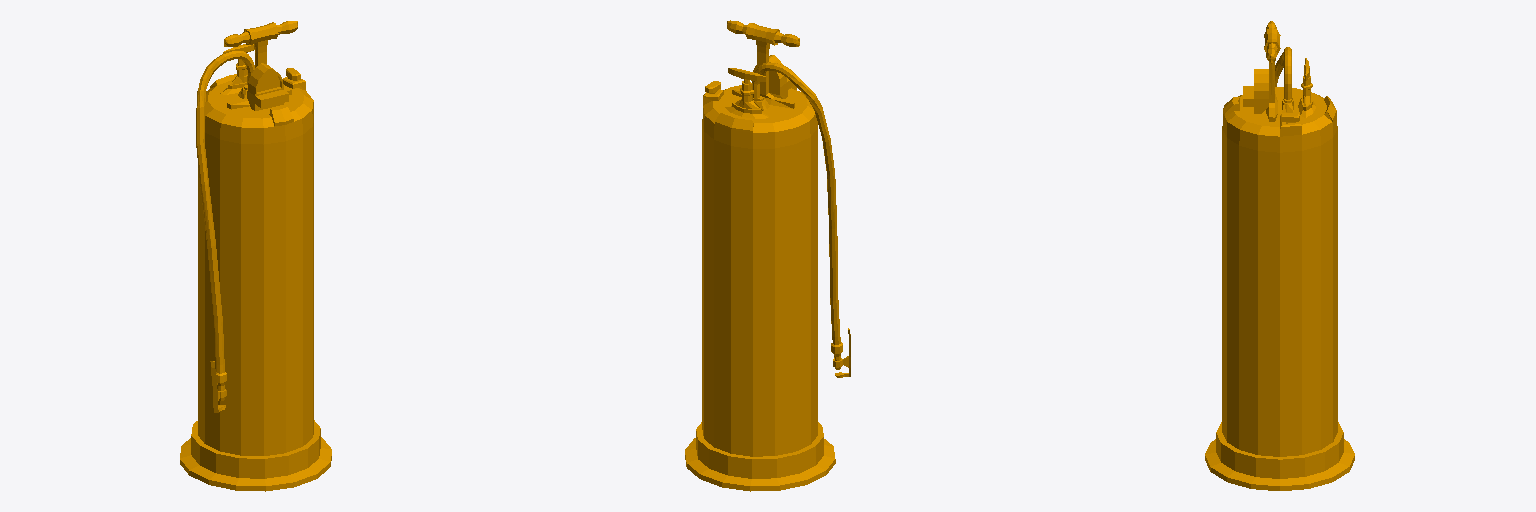
URDF robot description (mesh_object):
<robot name="mesh_object">
  <link name="base">
    <visual>
      <geometry>
        <mesh filename="fire_extinguisher_0_fire_extinguisher_0.obj" scale="1 1 1" />
      </geometry>
    </visual>
    <collision>
      <geometry>
        <mesh filename="fire_extinguisher_0_fire_extinguisher_0.obj" scale="1 1 1" />
      </geometry>
    </collision>
    <inertial>
      <origin xyz="0.004264 0.002513 0.091729" rpy="0 0 0" />
      <mass value="0.5" />
      <inertia ixx="0.01" iyy="0.01" izz="0.01" ixy="0" ixz="0" iyz="0" />
    </inertial>
  </link>
</robot>

--- What the picture shows (computed from the rendered views, not written in the file) ---
The picture shows the robot from 3 angles, left to right: view 1: azimuth 30°, elevation 25°; view 2: azimuth 150°, elevation 25°; view 3: azimuth 270°, elevation 25°; orthographic projection.
Robot: mesh_object — 1 links, 0 joints (none); root link base; default pose: every joint at zero.
Visible links, largest first — view 1: base; view 2: base; view 3: base.
Link boxes in pixels (x1,y1,x2,y2): base: (180, 21, 331, 491); base: (685, 20, 850, 491); base: (1205, 21, 1354, 490).
Size in the robot's own frame: 0.0596 by 0.0588 by 0.1835 metres.
Meshes: 1 distinct files referenced, 1 mesh visuals loaded (1 OBJ).
